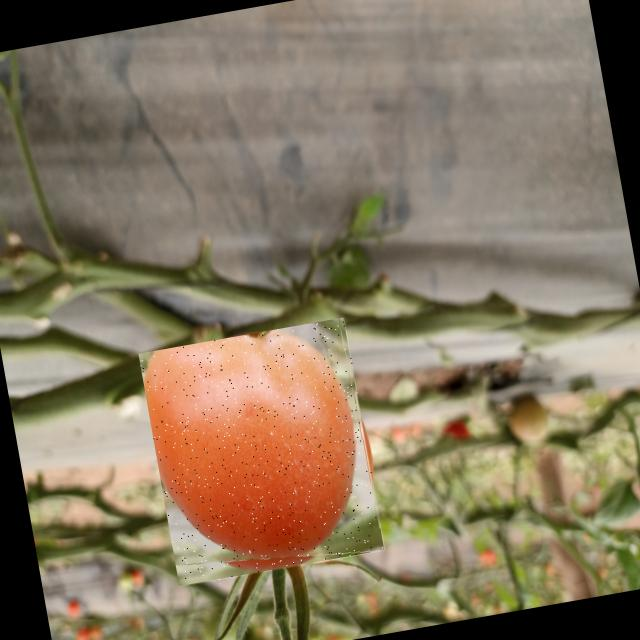Ripe Tomato: (138, 316, 385, 586)
